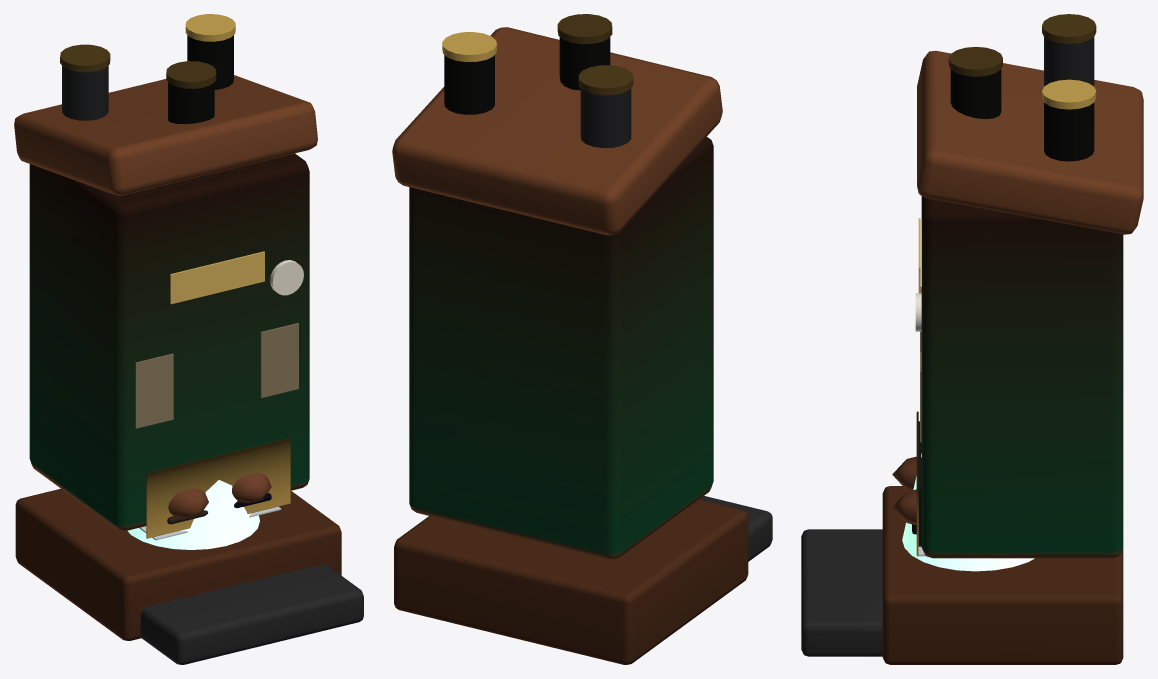
The model's file is scope.glb.
3 renders of one model, left to right at view 1: azimuth 30°, elevation 25°; view 2: azimuth 150°, elevation 25°; view 3: azimuth 270°, elevation 25°, orthographic. The views are drawn at different scales.
Parts seen in each view (by area): view 1: anim-case, anim-case-base, anim-case-top, scope.rubber.2, scope.brass.0, scope.metal.5, anim-beam, scope.brass.4, anim-hood1, anim-hood0, anim-hood2, scope.paint.3 (+2 smaller); view 2: anim-case, anim-case-top, anim-case-base, scope.brass.0, anim-hood1, anim-hood2, anim-hood0, scope.rubber.2; view 3: anim-case, anim-case-top, anim-case-base, scope.rubber.2, scope.brass.0, anim-hood2, anim-hood0, anim-hood1, anim-beam, anim-foot1-body, anim-foot0-body.
Part boxes in pixels (x1,y1,x2,y2): anim-case: (29, 153, 309, 530); anim-case-base: (15, 488, 341, 640); anim-case-top: (14, 75, 317, 195); scope.rubber.2: (140, 564, 363, 664); scope.brass.0: (60, 14, 290, 538); scope.metal.5: (135, 323, 298, 428); anim-beam: (127, 480, 259, 549); scope.brass.4: (170, 251, 264, 304); anim-hood1: (62, 66, 108, 120); anim-hood0: (168, 82, 214, 124); anim-hood2: (187, 35, 233, 89); scope.paint.3: (270, 260, 303, 295); anim-case: (409, 137, 713, 559); anim-case-top: (392, 27, 722, 235); anim-case-base: (394, 499, 748, 664); scope.brass.0: (442, 14, 633, 95); anim-hood1: (580, 88, 631, 147); anim-hood2: (444, 55, 494, 114); anim-hood0: (559, 37, 610, 90); scope.rubber.2: (699, 496, 772, 561); anim-case: (921, 196, 1123, 558); anim-case-top: (917, 50, 1143, 234); anim-case-base: (882, 486, 1123, 664); scope.rubber.2: (801, 529, 882, 656); scope.brass.0: (916, 14, 1096, 556); anim-hood2: (1044, 103, 1094, 161); anim-hood0: (950, 70, 1001, 119); anim-hood1: (1044, 37, 1094, 86); anim-beam: (902, 453, 1034, 571); anim-foot1-body: (892, 489, 916, 524); anim-foot0-body: (892, 456, 916, 490).
Size of the model in its own units: 0.7 by 1.57 by 0.8822.
